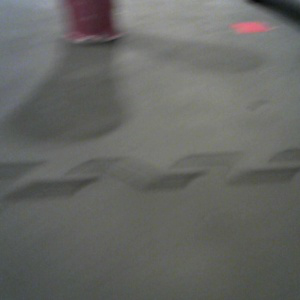Middle: (63, 1, 126, 46)
